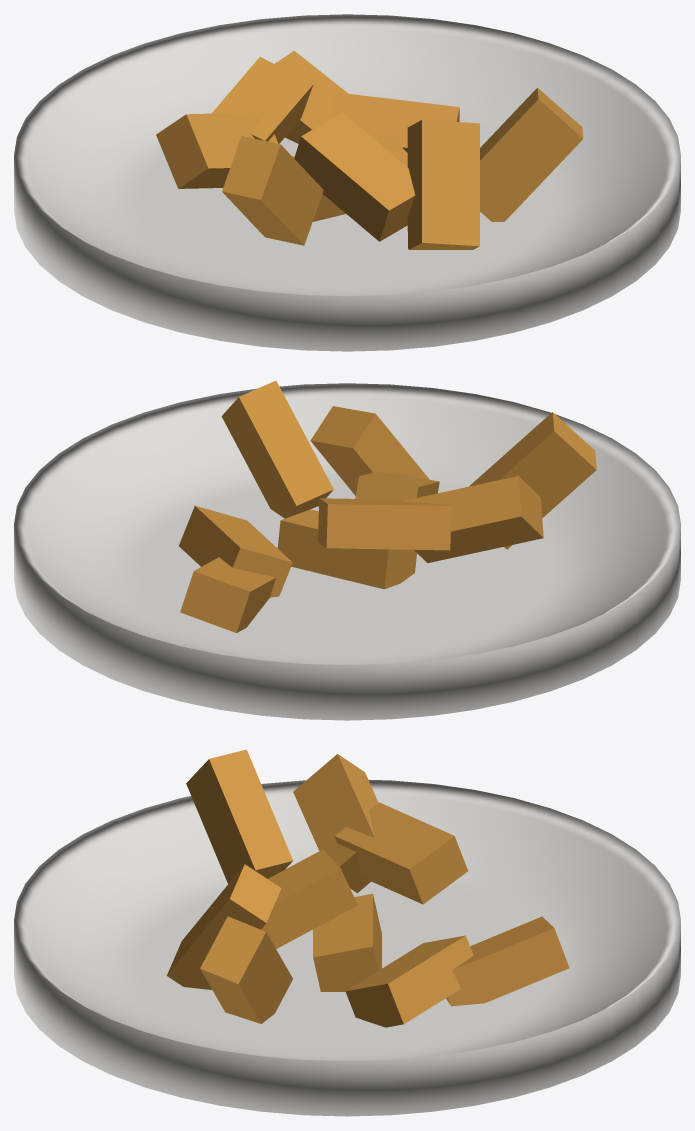
Rendered from empanados-1-card.glb.
3 renders of one model, top to bottom at view 1: azimuth 30°, elevation 25°; view 2: azimuth 150°, elevation 25°; view 3: azimuth 270°, elevation 25°, orthographic.
Size of the model in its own units: 0.24 by 0.0643 by 0.24.
